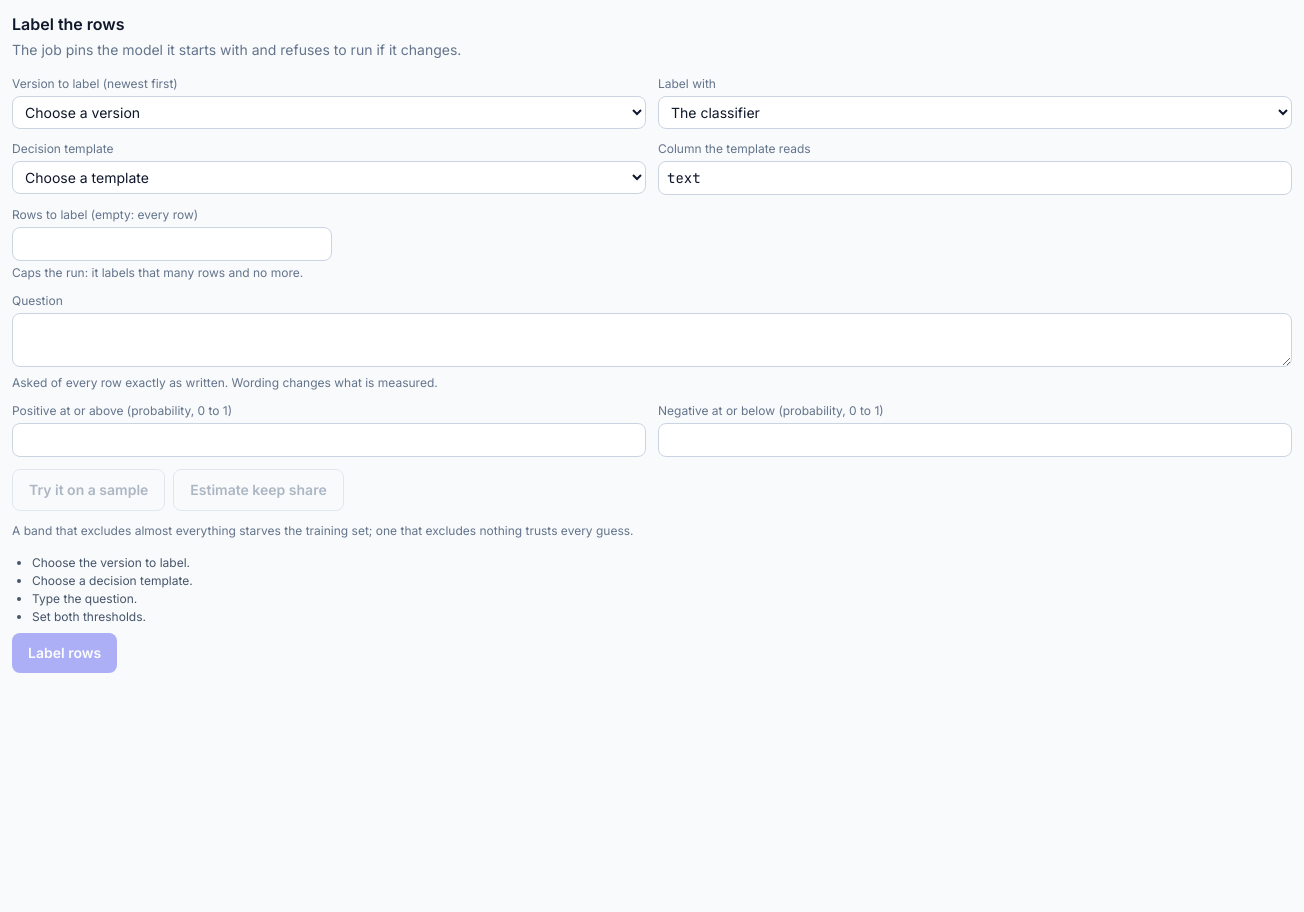
LabelStep with a probe in miLLM › shows a plan refusal in the server words, verbatim
The width and height of the screenshot is (1304, 912).
Select "stakes v1 (25,000 rows)" in the dropdown labelled "Version to label" at (329, 112), box [12,96,646,129]
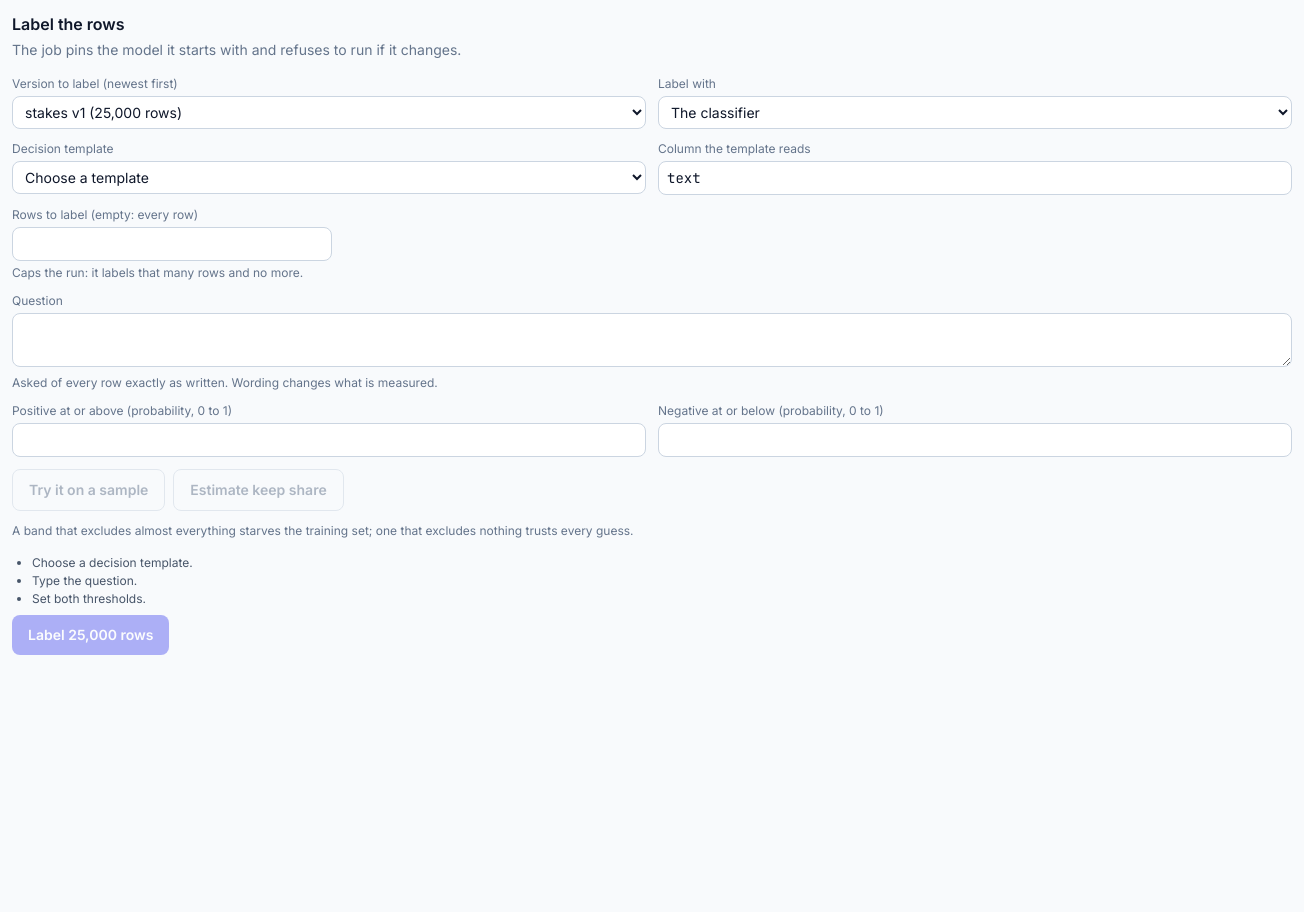
Select "A probe in miLLM" in the dropdown labelled "Label with" at (975, 112), box [658,96,1292,129]
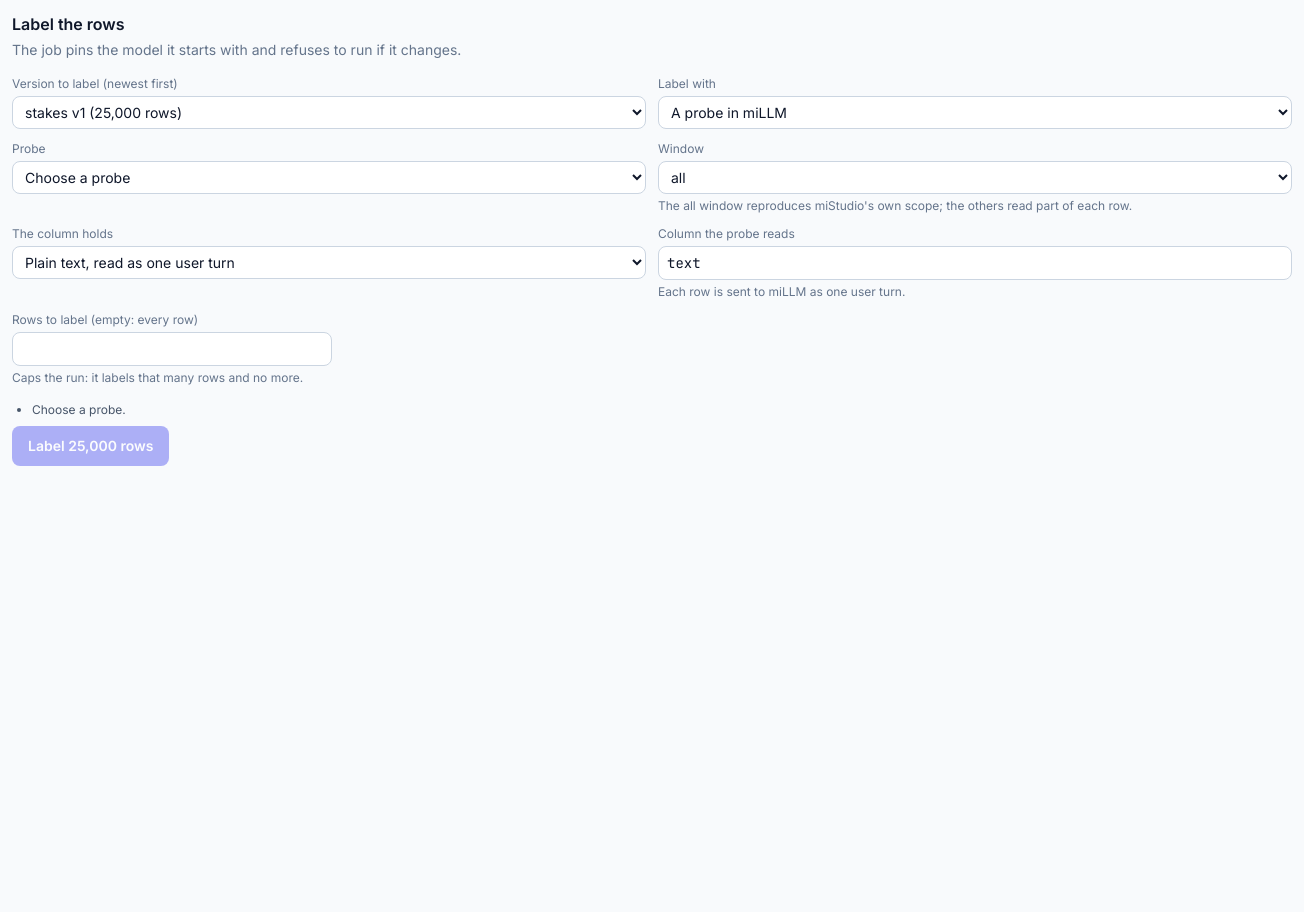
Select "high-stakes vs low-stakes · Llama-3.1-8B-Instruct, layer 16 · high-stakes L16 me" in the dropdown labelled "Probe" at (329, 178), box [12,161,646,194]
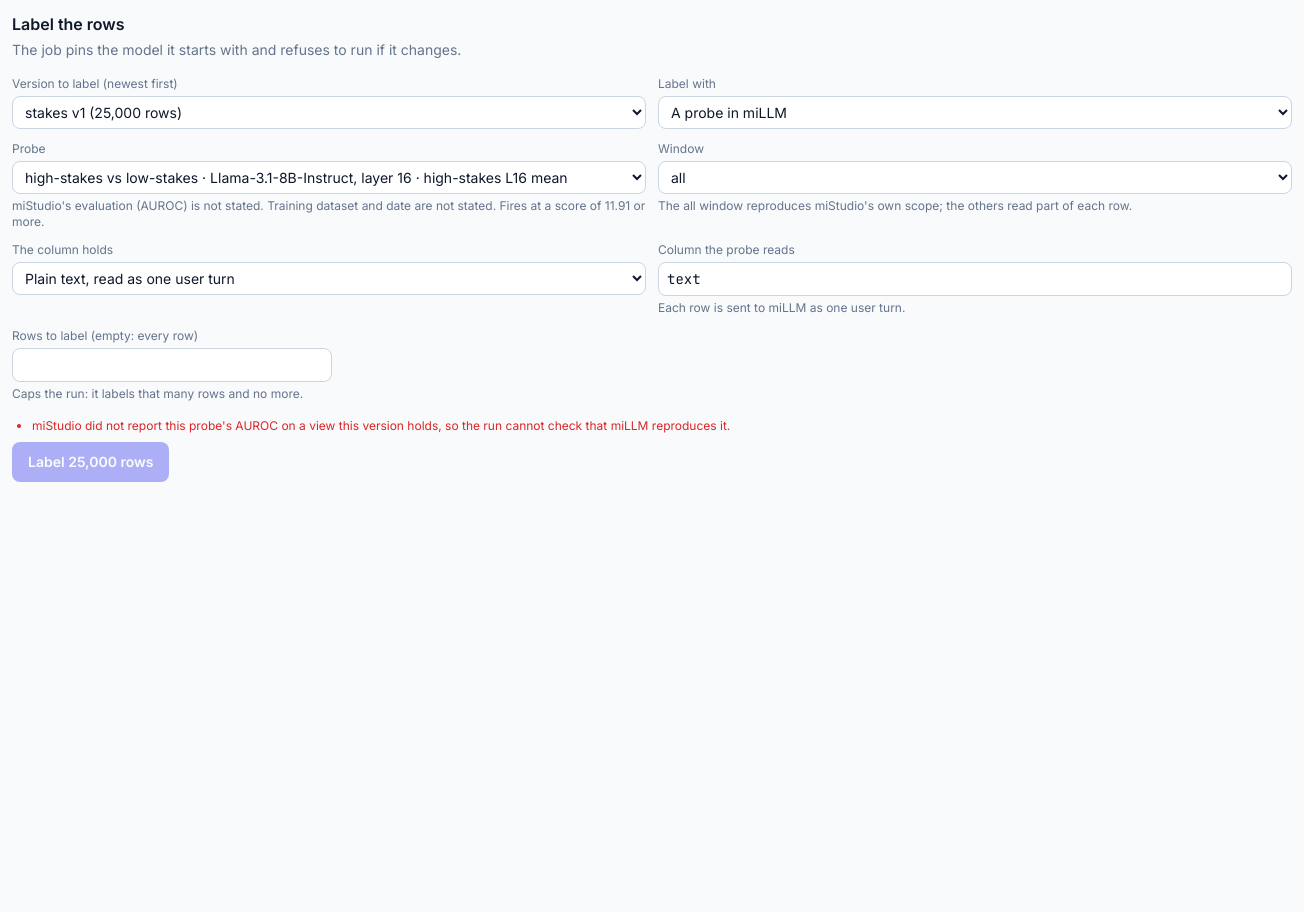
Check: the button "Label 25,000 rows" is disabled, box [12,442,169,482]
Check: the text "miStudio did not report this probe's AUROC on a view this version holds, so the run cannot check that miLLM reproduces i" is shown, box [32,418,730,433]
